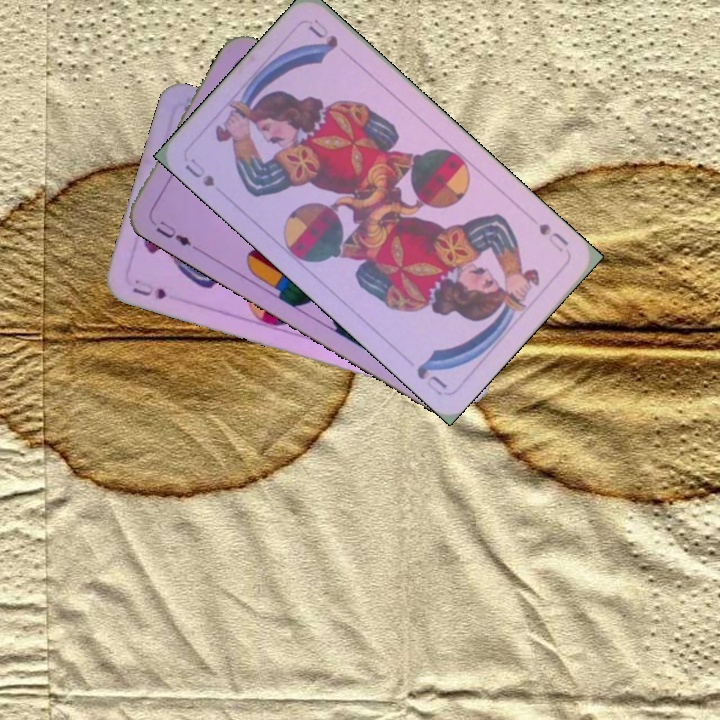EU: (151, 216, 199, 252)
SU: (180, 153, 218, 190), (534, 219, 572, 255), (128, 275, 169, 302)
